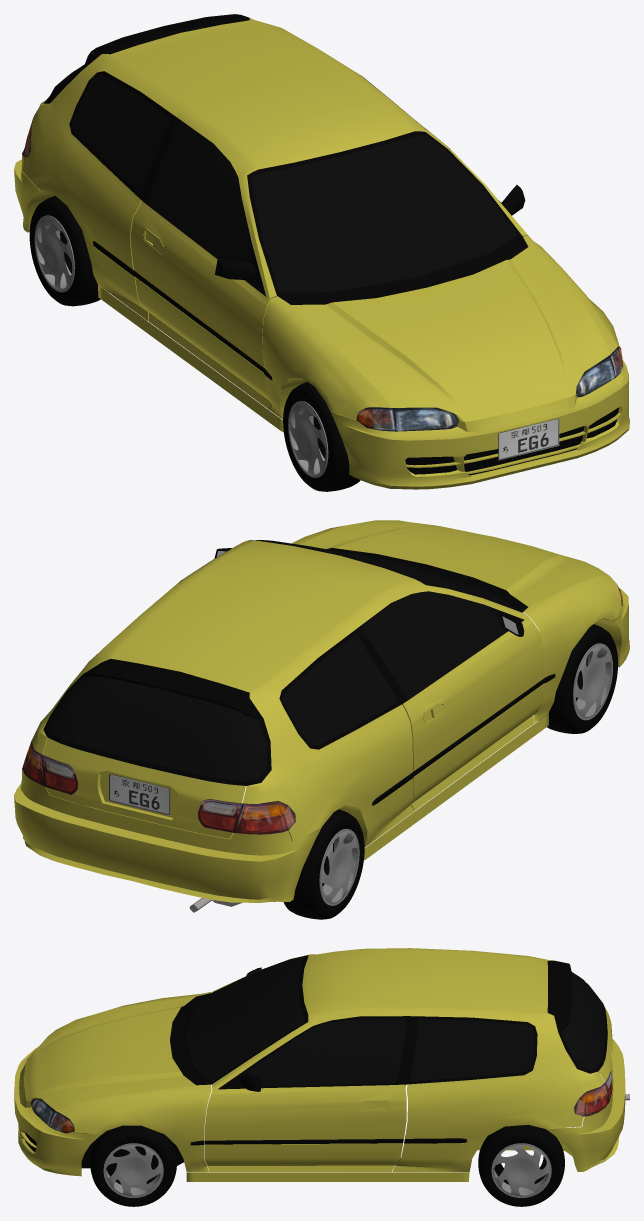
Rendered from 1991_honda_civic_eg6.glb.
The picture shows the model from 3 angles, top to bottom: view 1: azimuth 30°, elevation 25°; view 2: azimuth 150°, elevation 25°; view 3: azimuth 270°, elevation 25°; orthographic projection. The views are drawn at different scales.
Visible parts, largest first — view 1: mainbody, frontbumper.001, mainbody.001, frontbumper, front fender, mainbody.002, mainbody.003, Circle.003, Circle.002, mainbody.005, frontbumper.005, sideskirt (+7 smaller); view 2: mainbody, rear bumper, trunk.001, frontbumper.001, mainbody.002, mainbody.003, trunk, front fender, Circle.003, Circle.002, mainbody.004, spoiler (+6 smaller); view 3: mainbody, frontbumper.001, mainbody.001, mainbody.002, mainbody.003, front fender, Circle.001, Circle, frontbumper, rear bumper, trunk.001, sideskirt (+9 smaller).
Boxes of the visible parts, box(x1,y1,x2,y2) form: mainbody: box(22, 18, 528, 408); frontbumper.001: box(291, 247, 609, 421); mainbody.001: box(247, 131, 521, 295); frontbumper: box(330, 359, 629, 489); front fender: box(262, 236, 620, 419); mainbody.002: box(146, 119, 266, 296); mainbody.003: box(69, 71, 176, 199); Circle.003: box(29, 195, 100, 306); Circle.002: box(283, 382, 360, 491); mainbody.005: box(277, 236, 528, 304); frontbumper.005: box(405, 407, 618, 475); sideskirt: box(98, 285, 283, 432); mainbody: box(31, 540, 545, 847); rear bumper: box(14, 769, 321, 902); trunk.001: box(43, 674, 271, 785); frontbumper.001: box(300, 520, 609, 606); mainbody.002: box(361, 591, 524, 700); mainbody.003: box(93, 629, 402, 749); trunk: box(43, 738, 245, 838); front fender: box(292, 526, 621, 723); Circle.003: box(283, 809, 364, 919); Circle.002: box(536, 624, 617, 733); mainbody.004: box(22, 741, 295, 834); spoiler: box(83, 658, 263, 718); mainbody: box(204, 948, 604, 1172); frontbumper.001: box(24, 996, 195, 1110); mainbody.001: box(182, 955, 308, 1084); mainbody.002: box(248, 1016, 409, 1086); mainbody.003: box(406, 1016, 537, 1084); front fender: box(56, 992, 211, 1172); Circle.001: box(478, 1124, 564, 1206); Circle: box(90, 1125, 176, 1206); frontbumper: box(14, 1047, 100, 1176); rear bumper: box(546, 1039, 625, 1171); trunk.001: box(558, 972, 607, 1073); sideskirt: box(186, 1172, 469, 1181).
Size of the model in its own units: 364 by 266 by 820.
11 materials, 2 textured.
